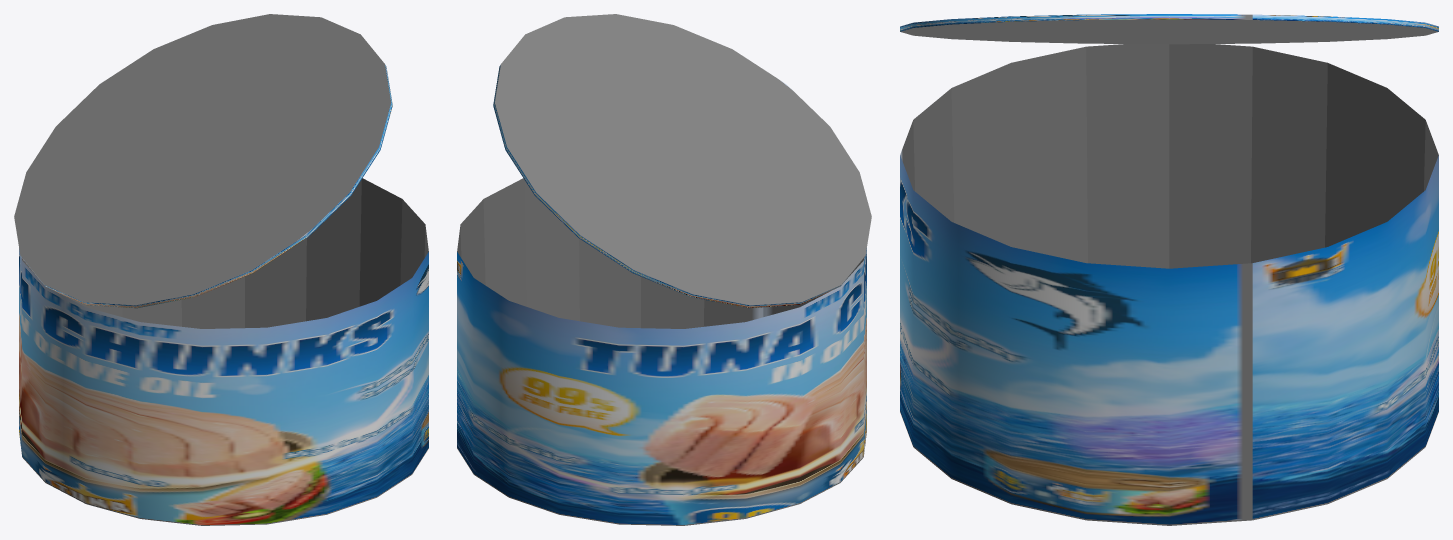
Rendered from TUNA.fbx.
The picture shows the model from 3 angles, left to right: view 1: azimuth 30°, elevation 25°; view 2: azimuth 150°, elevation 25°; view 3: azimuth 270°, elevation 25°; orthographic projection. The views are drawn at different scales.
Parts seen in each view (by area): view 1: pCylinder13; view 2: pCylinder13; view 3: pCylinder13.
Boxes of the visible parts, x1,y1,x2,y2 form: pCylinder13: (14,14,428,525); pCylinder13: (457,14,871,525); pCylinder13: (900,14,1438,525).
Size of the model in its own units: 0.4974 by 0.4934 by 0.4963.
Materials: 1 (1 with a texture image).
